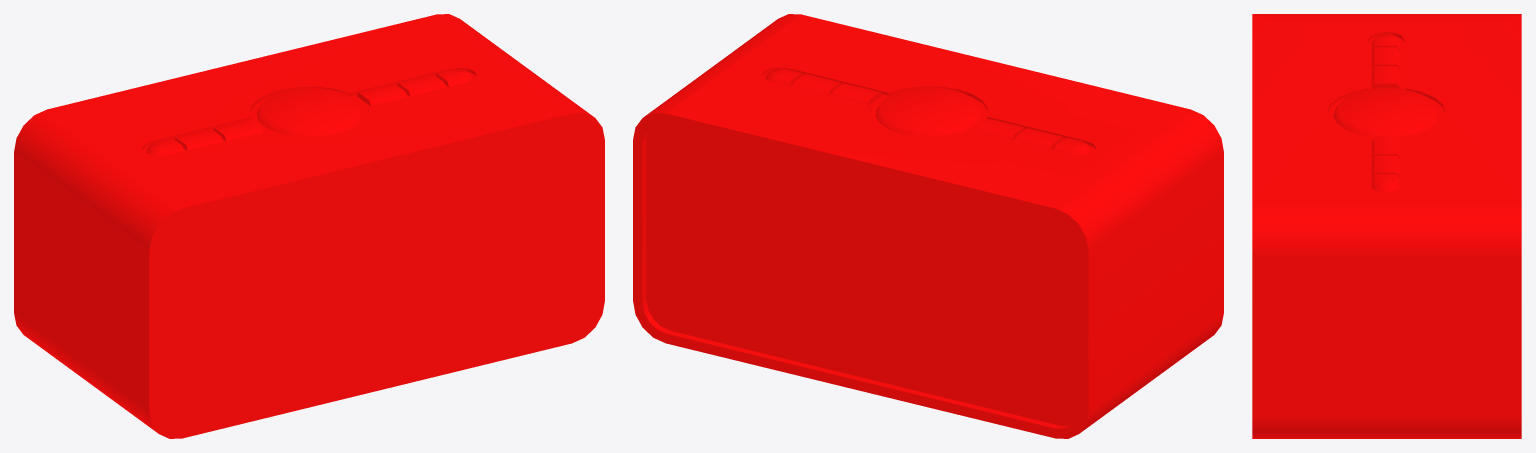
The model's file is SM_AlarmClock.glb.
3 views of the same model, side by side, from view 1: azimuth 30°, elevation 25°; view 2: azimuth 150°, elevation 25°; view 3: azimuth 270°, elevation 25° (orthographic).
Parts seen in each view (by area): view 1: SM_AlarmClock_LOD0; view 2: SM_AlarmClock_LOD0; view 3: SM_AlarmClock_LOD0.
Boxes of the visible parts, box(x1,y1,x2,y2) form: SM_AlarmClock_LOD0: box(14, 14, 604, 438); SM_AlarmClock_LOD0: box(633, 14, 1223, 438); SM_AlarmClock_LOD0: box(1252, 14, 1521, 438).
Bounding box in the file's own units: 0.1931 × 0.0947 × 0.0994.
1 material, 1 textured.
